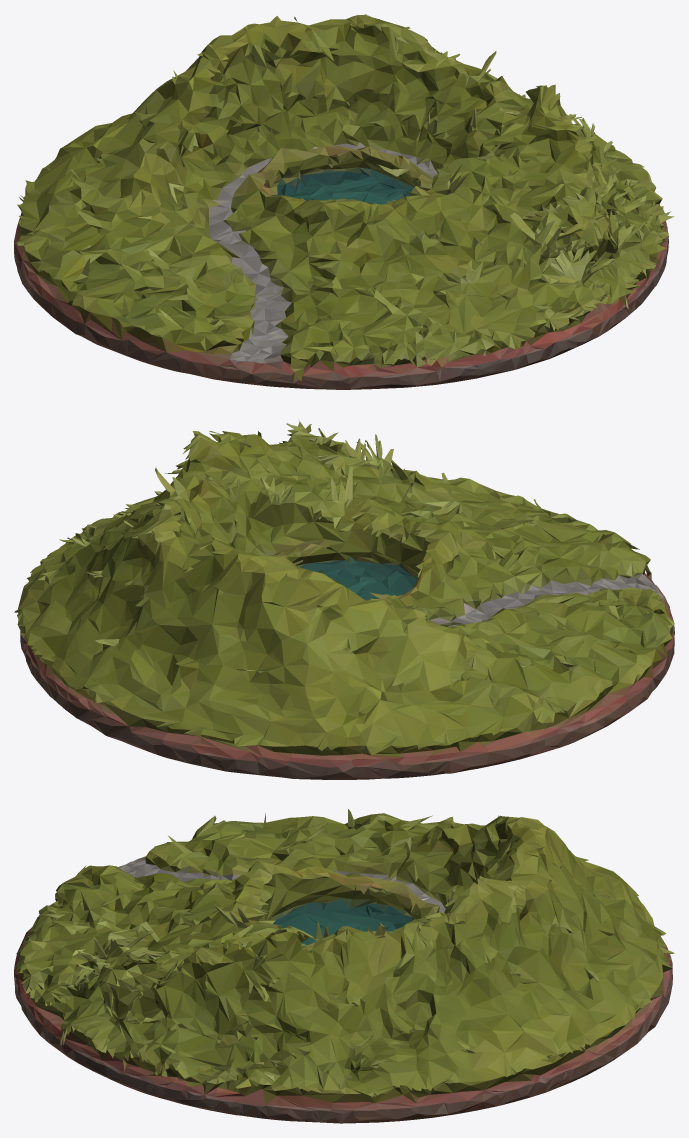
Rendered from island.glb.
3 renders of one model, top to bottom at view 1: azimuth 30°, elevation 25°; view 2: azimuth 150°, elevation 25°; view 3: azimuth 270°, elevation 25°, orthographic.
Parts seen in each view (by area): view 1: island; view 2: island; view 3: island.
Part boxes in pixels (box(x1,y1,x2,y2)): island: box(14, 14, 674, 389); island: box(14, 420, 674, 779); island: box(14, 809, 674, 1123).
Size of the model in its own units: 0.9813 by 0.2574 by 0.9807.
1 material, 1 textured.
